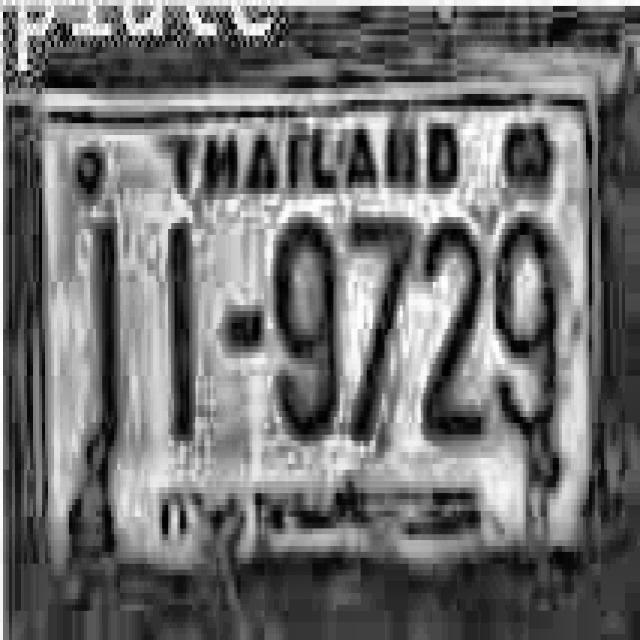license-plate: (24, 64, 608, 612)
